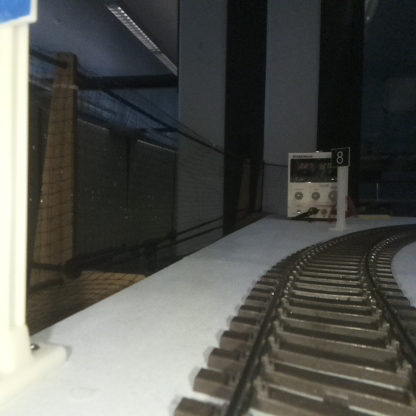black-info-8: (331, 146, 350, 231)
